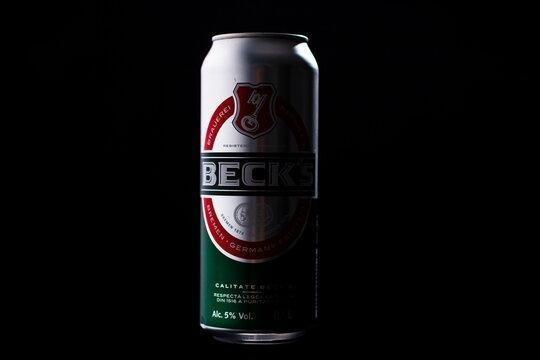tin can: (196, 25, 322, 349)
